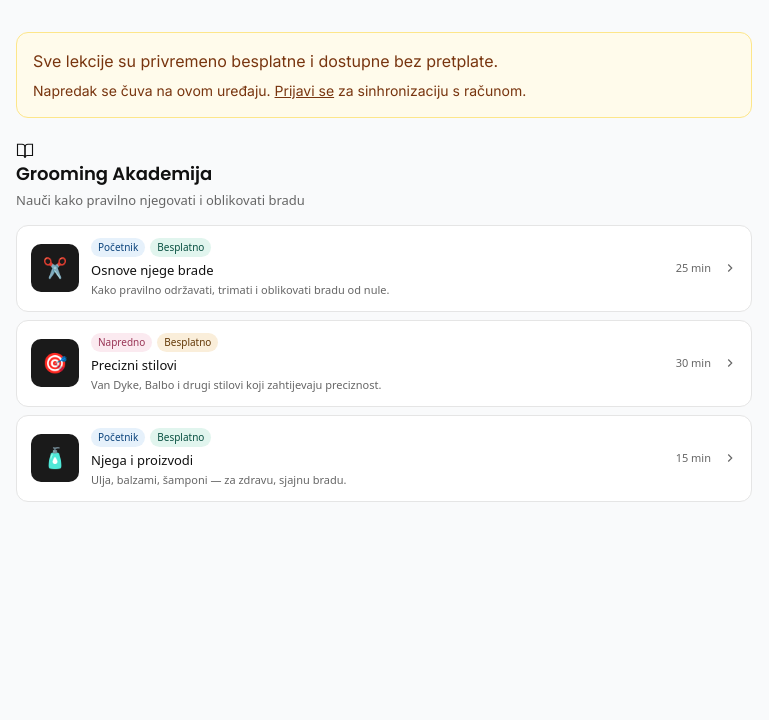
Test: all four steps of a free guide can be reached
This screenshot has width=769, height=720.
Click the text "Osnove njege brade" at (152, 270), box [91,260,214,278]
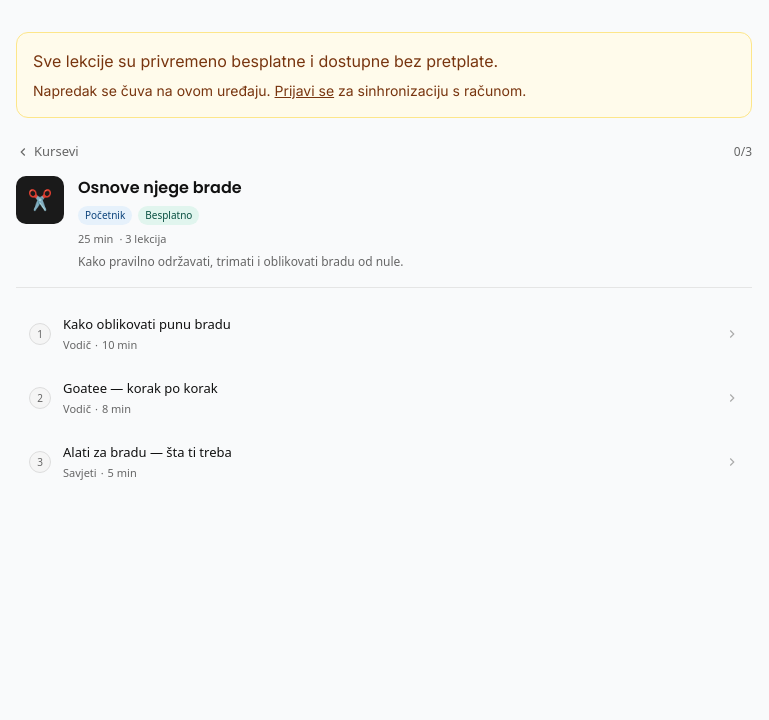
Click the text "Kako oblikovati punu bradu" at (147, 324), box [63,315,231,333]
(page scrolled)
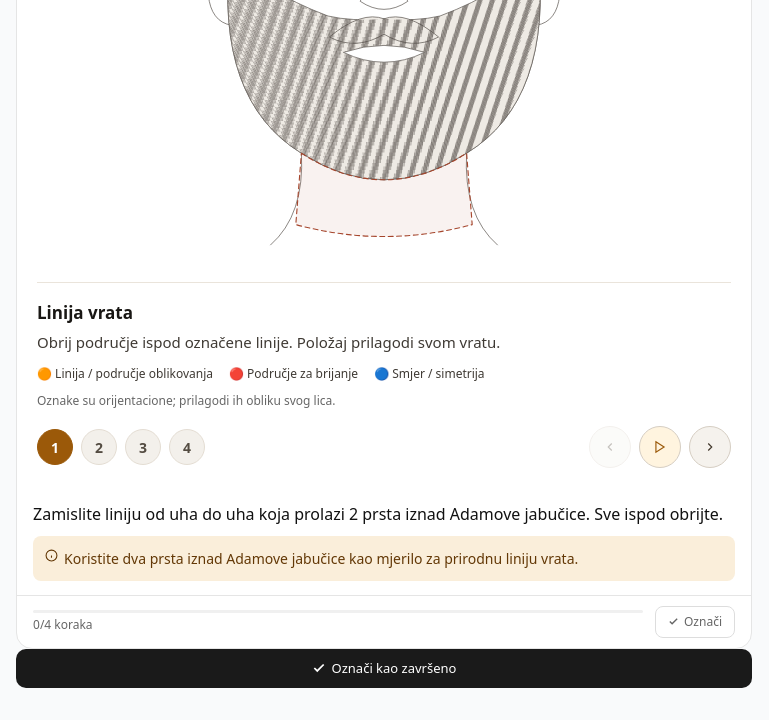
Click the button named "Sljedeći korak" at (710, 447), box [689,426,731,468]
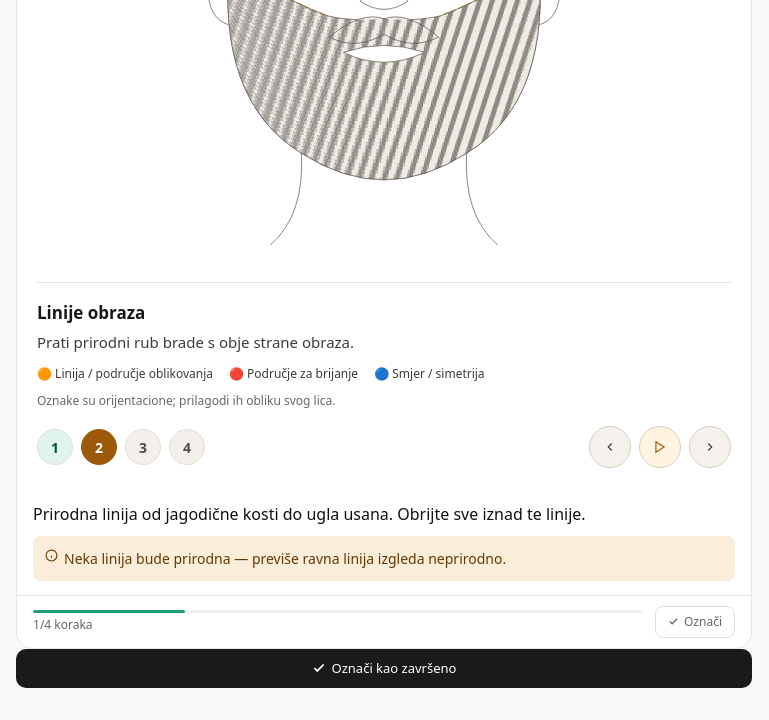
Click the button named "Sljedeći korak" at (710, 447), box [689,426,731,468]
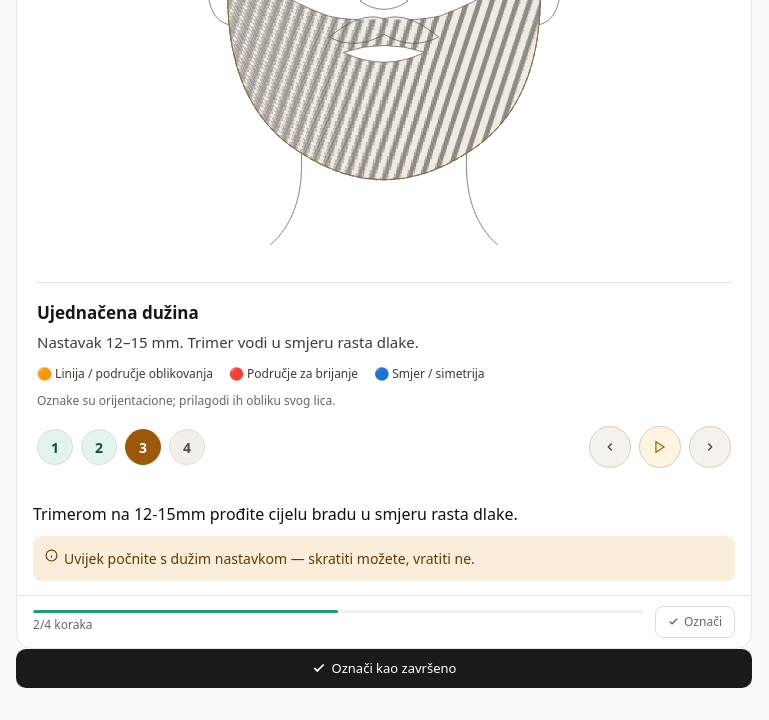
Click the button named "Sljedeći korak" at (710, 447), box [689,426,731,468]
(page scrolled)
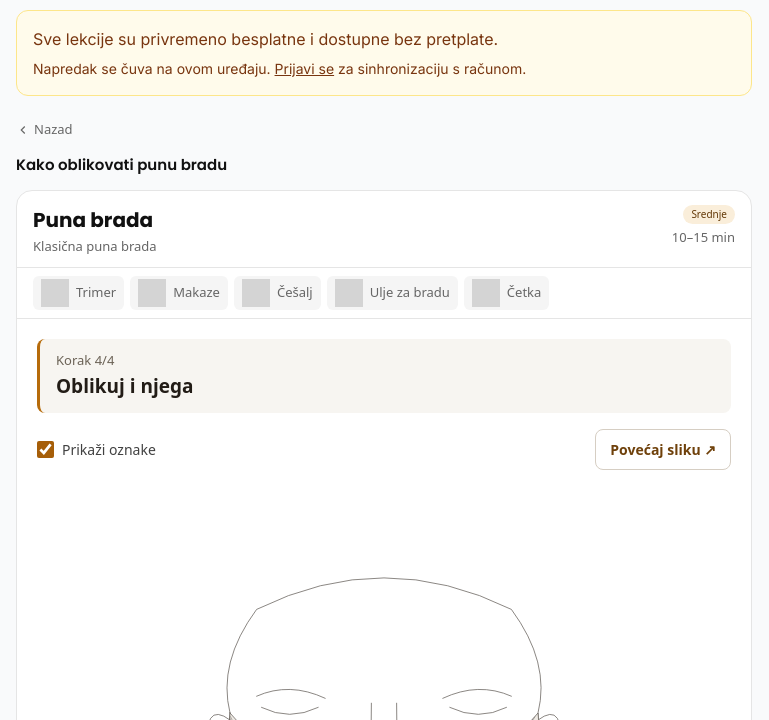
Expected: the text "Korak 4/4" is shown, [56,350,114,368]
